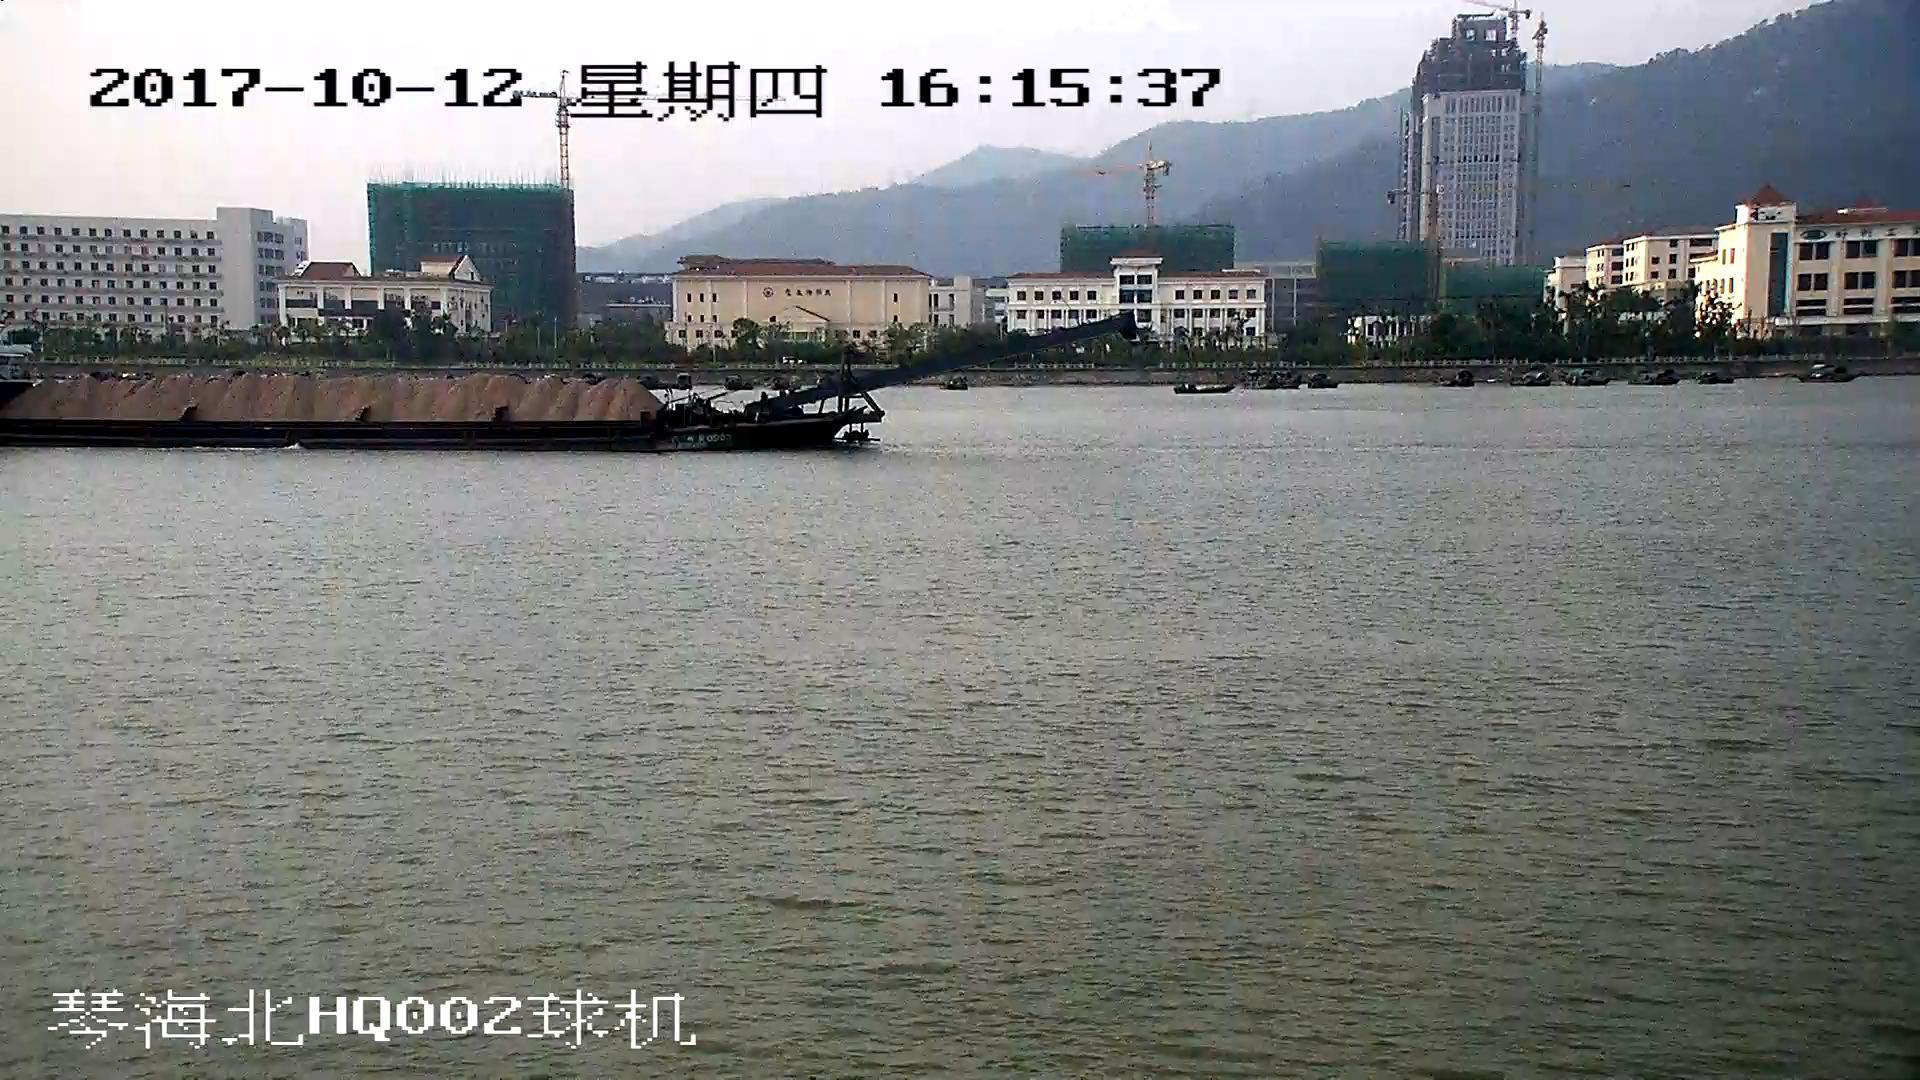Ship: (3, 315, 1130, 451)
